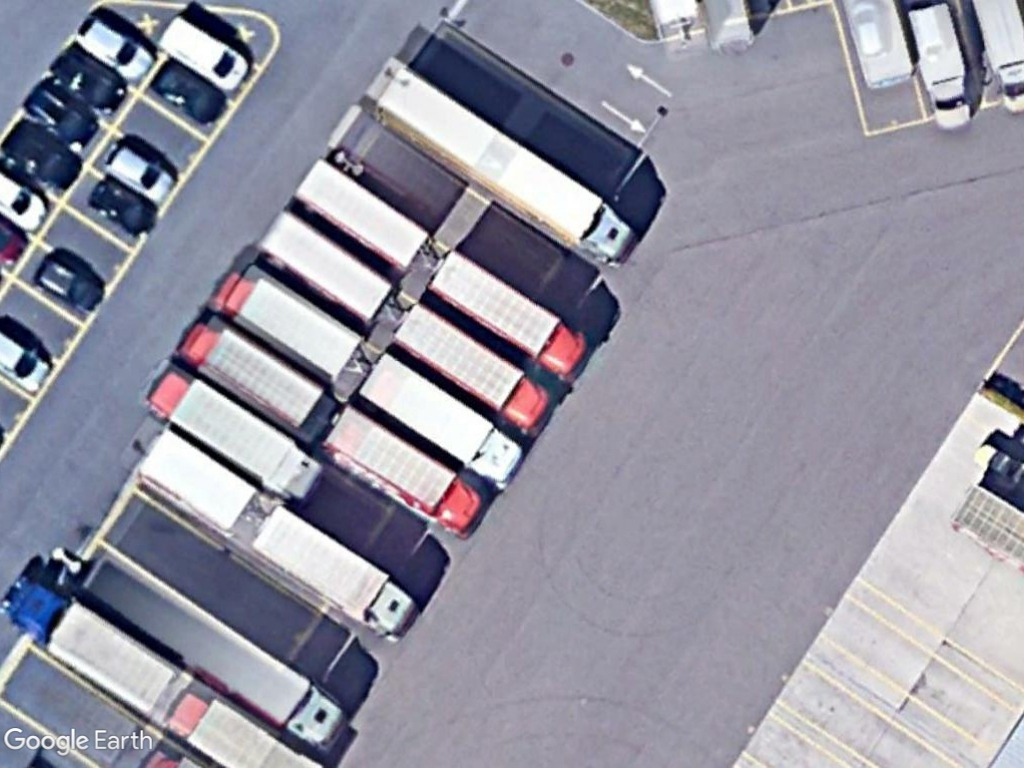car: (70, 10, 153, 86), (101, 137, 179, 203)
truck: (367, 57, 638, 273), (244, 485, 417, 647), (2, 567, 181, 722), (143, 354, 314, 501), (318, 399, 490, 543), (354, 347, 521, 493), (389, 294, 554, 439), (425, 242, 586, 388), (212, 254, 363, 383), (176, 314, 330, 435), (905, 2, 980, 132)
van: (158, 8, 252, 93)
